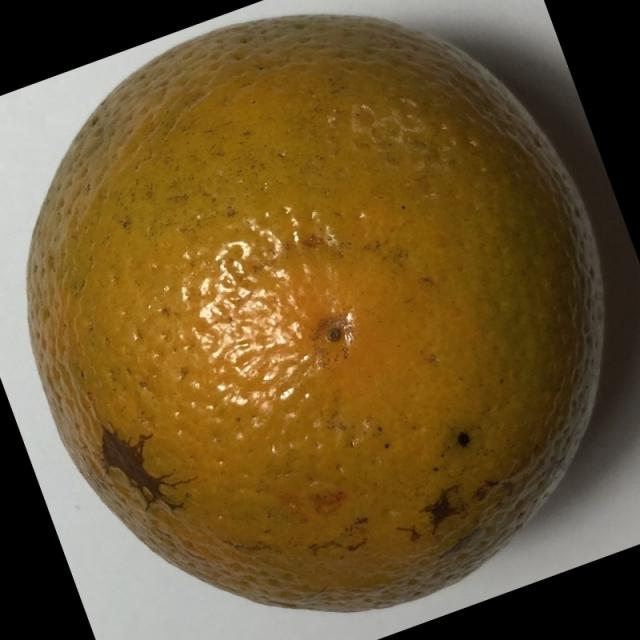canker: (24, 4, 618, 620)
